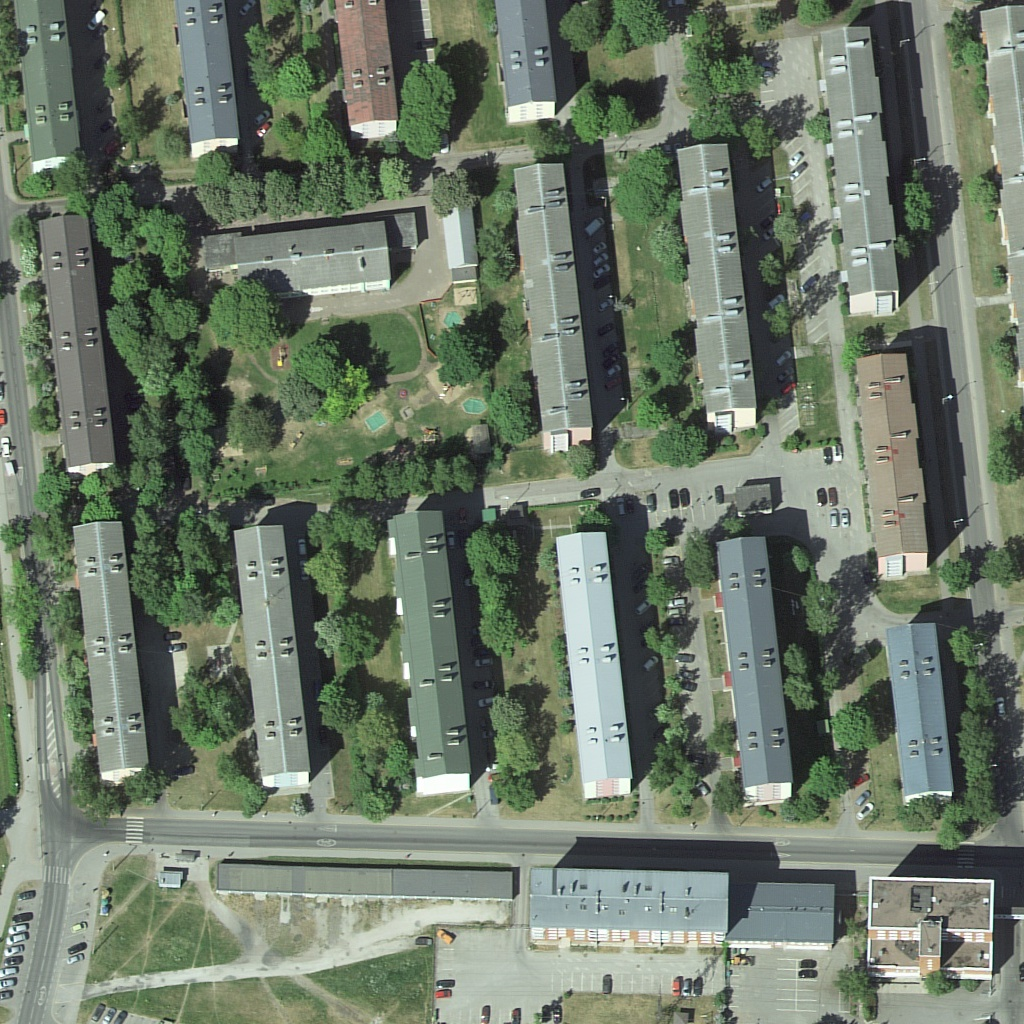building: (391, 512, 481, 796), (814, 24, 900, 316), (676, 146, 760, 436), (228, 522, 318, 789), (516, 158, 598, 445), (36, 208, 120, 475), (713, 534, 796, 804), (69, 516, 153, 781), (553, 530, 636, 796), (850, 349, 930, 582), (526, 868, 733, 950), (863, 878, 996, 983), (215, 861, 514, 907), (885, 622, 959, 807), (228, 219, 396, 295), (330, 4, 405, 135), (176, 9, 244, 153), (492, 4, 568, 123), (730, 881, 839, 954), (442, 201, 482, 287)
